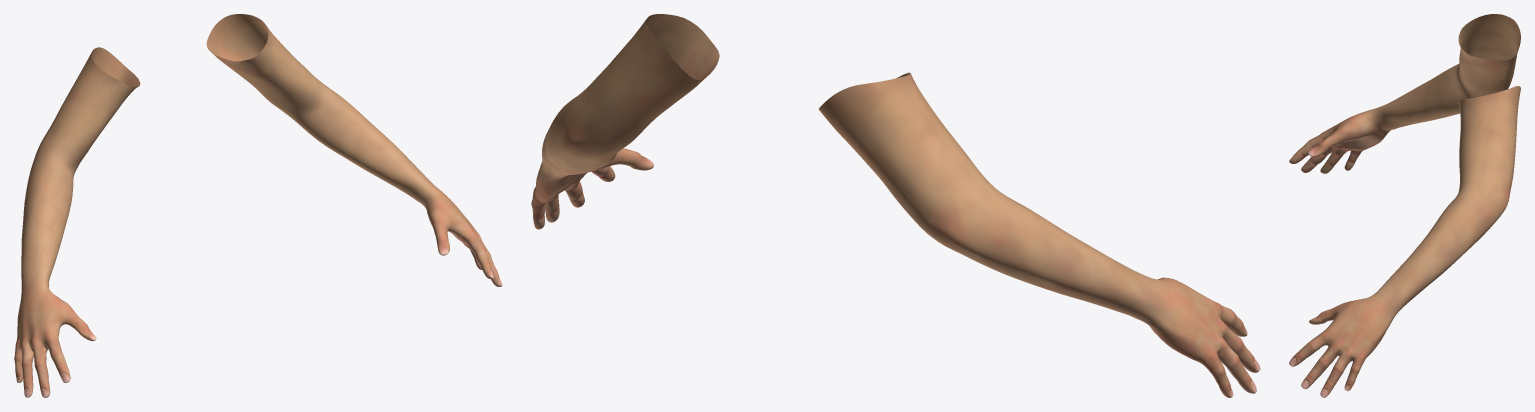
Rendered from arms_female.web.glb.
3 views of the same model, side by side, from view 1: azimuth 30°, elevation 25°; view 2: azimuth 150°, elevation 25°; view 3: azimuth 270°, elevation 25° (orthographic). The views are drawn at different scales.
Visible parts, largest first — view 1: Object_3, Object_2; view 2: Object_3, Object_2; view 3: Object_2, Object_3.
Part boxes in pixels (x1,y1,x2,y2): Object_3: (14, 47, 140, 397); Object_2: (206, 14, 502, 286); Object_3: (818, 72, 1260, 397); Object_2: (531, 14, 719, 229); Object_2: (1289, 86, 1520, 397); Object_3: (1289, 14, 1520, 173).
Size of the model in its own units: 0.8478 by 0.4072 by 0.368.
Materials: 1 (1 with a texture image).
